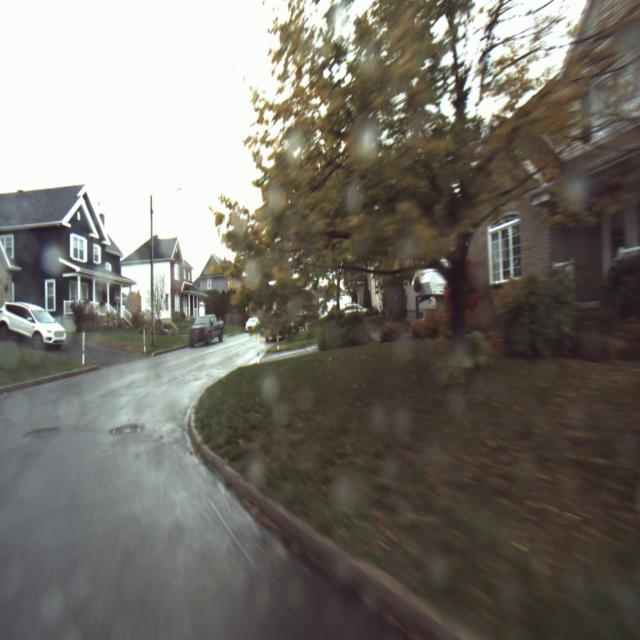car: (1, 291, 76, 362)
